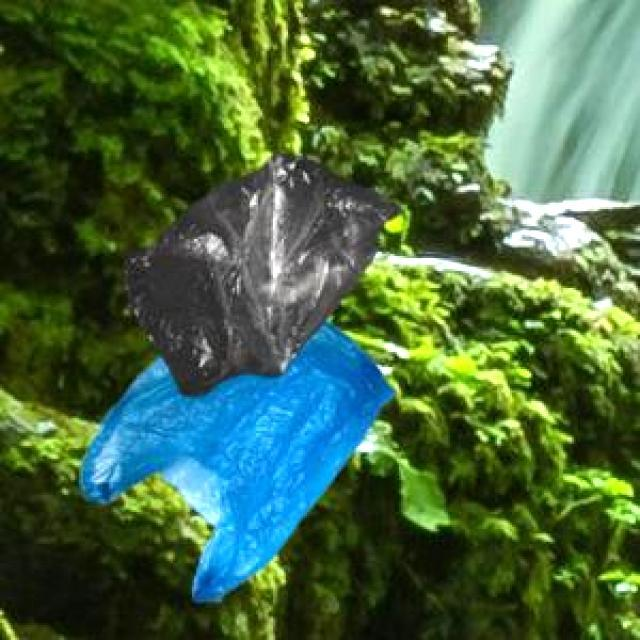Plastic_Bag: (78, 318, 392, 598), (120, 150, 398, 394)
